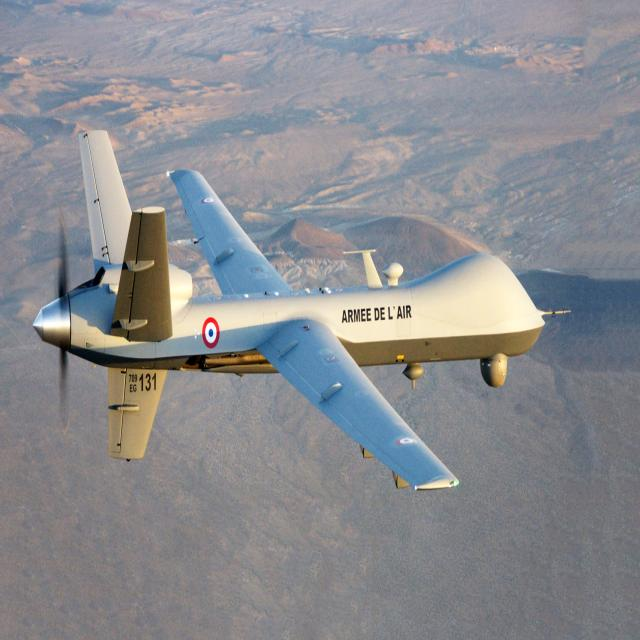MIL_Plane: (32, 128, 572, 492)
